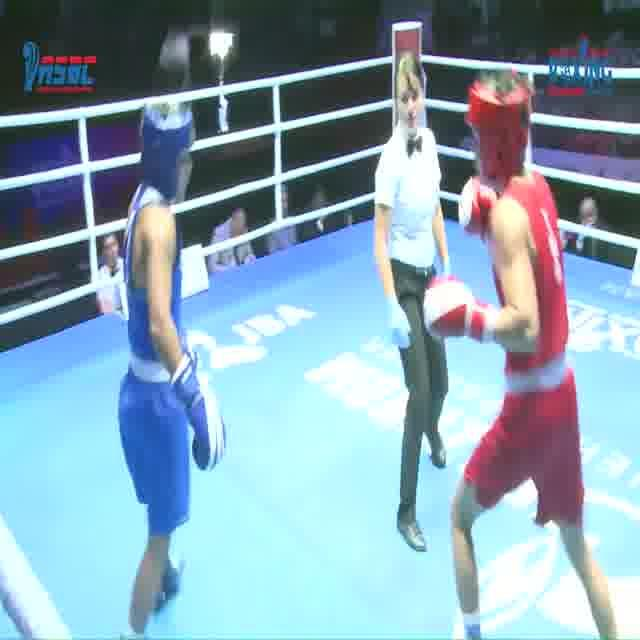blue-player: (114, 91, 225, 640)
red-player: (423, 63, 621, 640)
referee: (373, 46, 453, 559)
